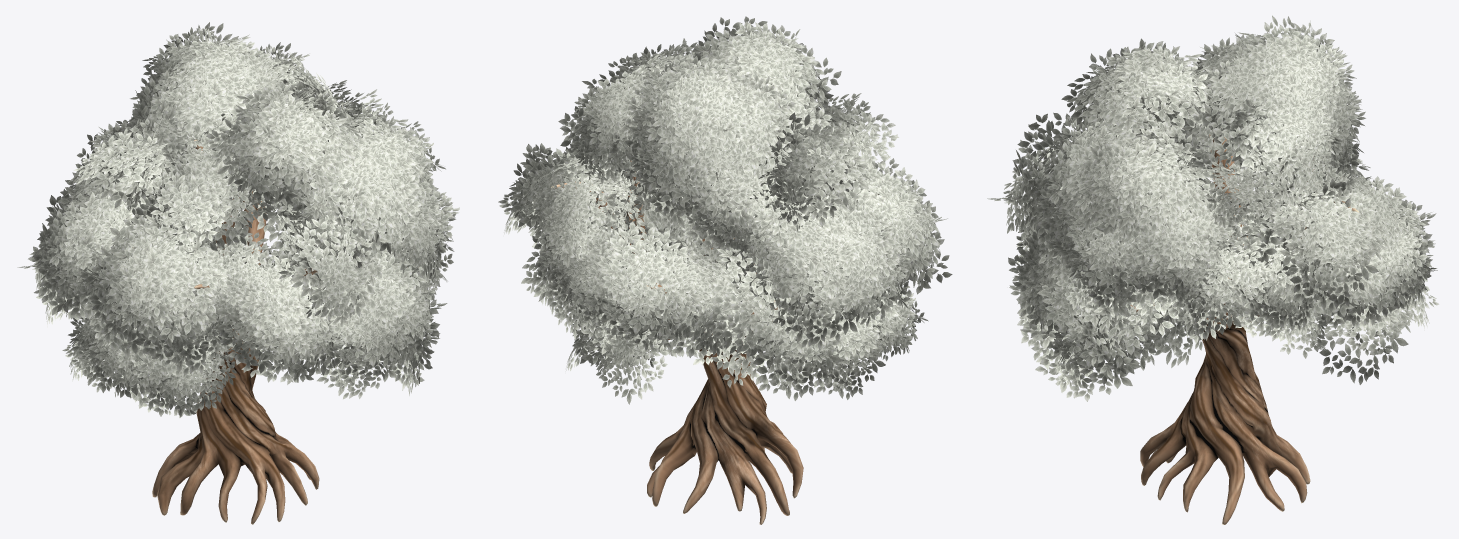
The model's file is Main_Tree.fbx.
The picture shows the model from 3 angles, left to right: view 1: azimuth 30°, elevation 25°; view 2: azimuth 150°, elevation 25°; view 3: azimuth 270°, elevation 25°; orthographic projection. The views are drawn at different scales.
Visible parts, largest first — view 1: MSH_fwOF_Tree_Med_02_LOD0, ZBrush_defualt_group; view 2: MSH_fwOF_Tree_Med_02_LOD0, ZBrush_defualt_group; view 3: MSH_fwOF_Tree_Med_02_LOD0, ZBrush_defualt_group.
Boxes of the visible parts, x1,y1,x2,y2 form: MSH_fwOF_Tree_Med_02_LOD0: (17,22,459,417); ZBrush_defualt_group: (132,139,419,524); MSH_fwOF_Tree_Med_02_LOD0: (498,16,952,404); ZBrush_defualt_group: (551,160,878,524); MSH_fwOF_Tree_Med_02_LOD0: (987,15,1438,401); ZBrush_defualt_group: (1130,134,1359,524).
Size of the model in its own units: 288 by 334 by 295.
